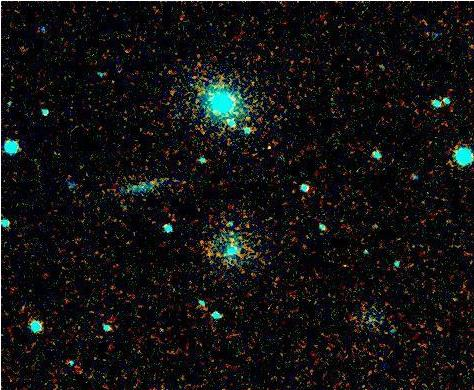star: (256, 133, 286, 163)
